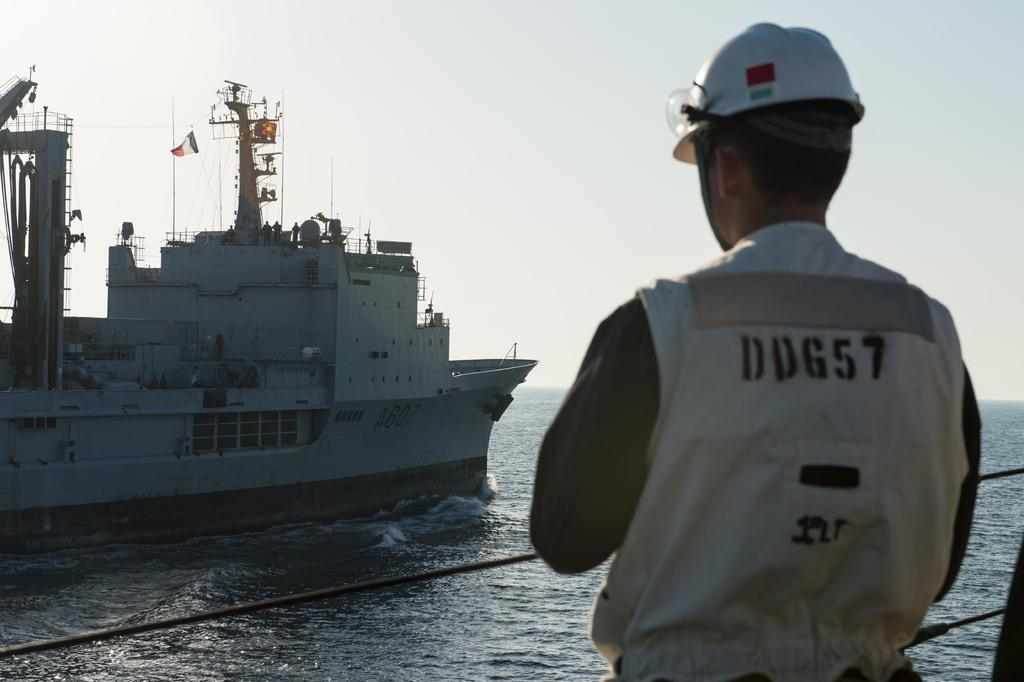helmet: (672, 22, 865, 221)
